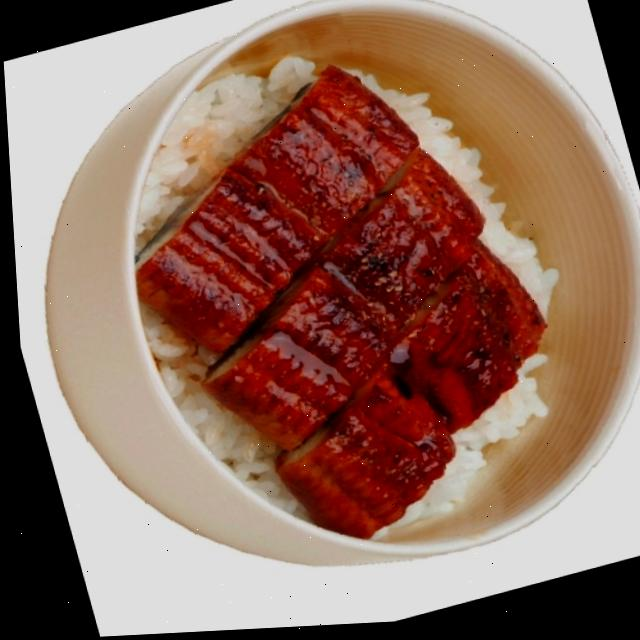面包点心: (61, 91, 530, 555), (2, 26, 218, 420)
